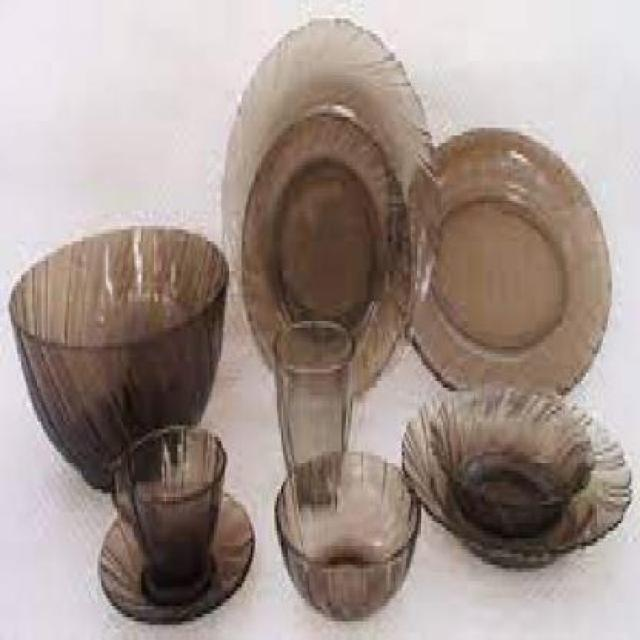kaca: (222, 15, 440, 372), (6, 222, 225, 489), (400, 120, 612, 395), (243, 104, 414, 396), (400, 380, 629, 569), (428, 380, 590, 535), (272, 450, 417, 618), (98, 486, 254, 622), (108, 422, 228, 590), (275, 316, 351, 504)
